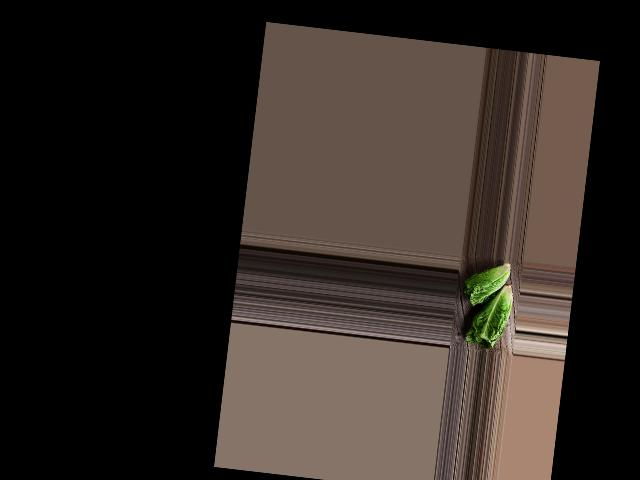lettuce: (457, 254, 513, 311)
